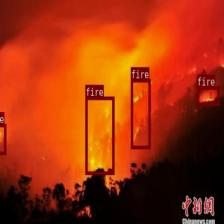fire: (85, 96, 114, 174), (130, 79, 150, 148), (196, 86, 219, 105), (0, 123, 6, 154)
